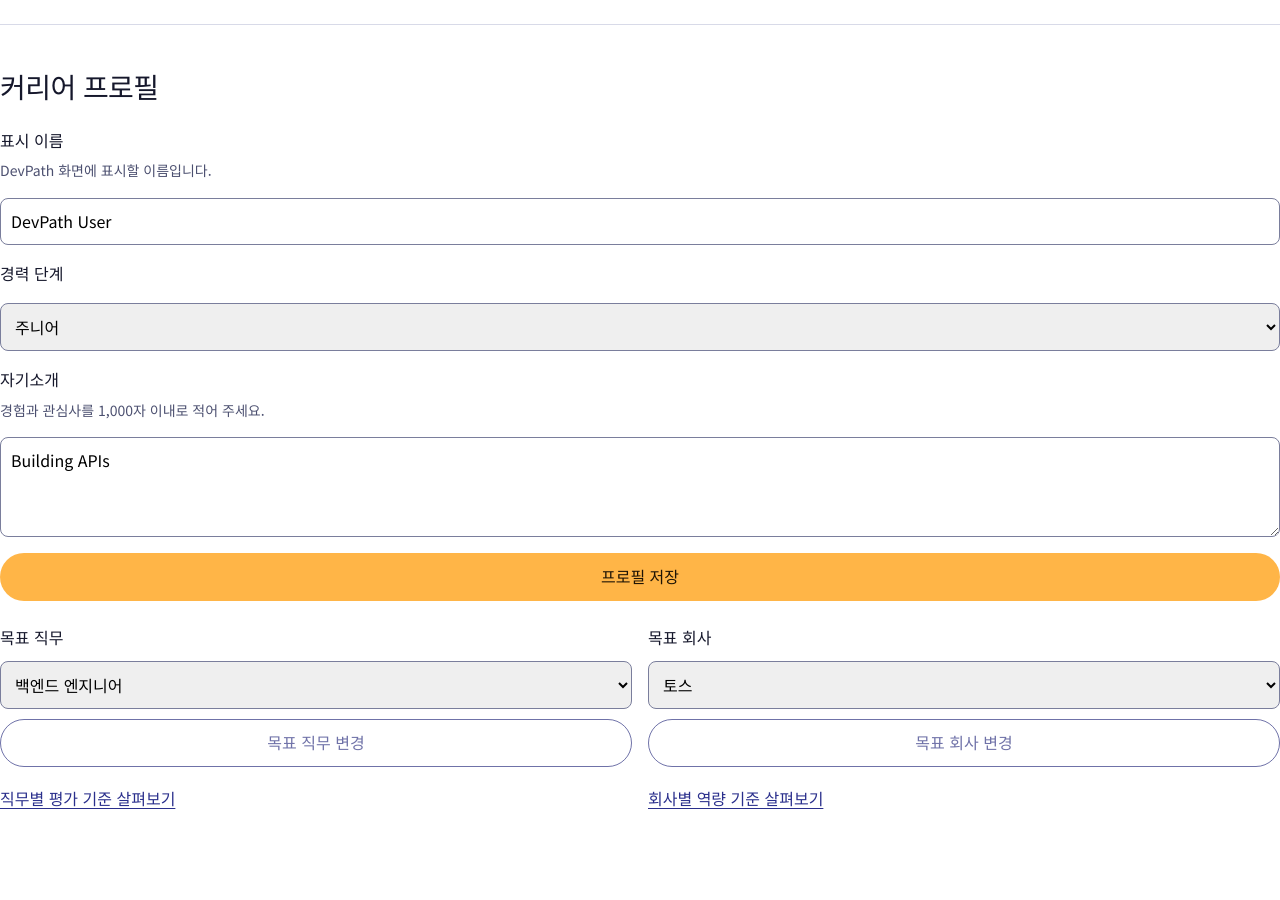
Test: announces a failed target change
Select "라인" in the dropdown labelled "목표 회사": (964,685) [648, 661, 1279, 709]
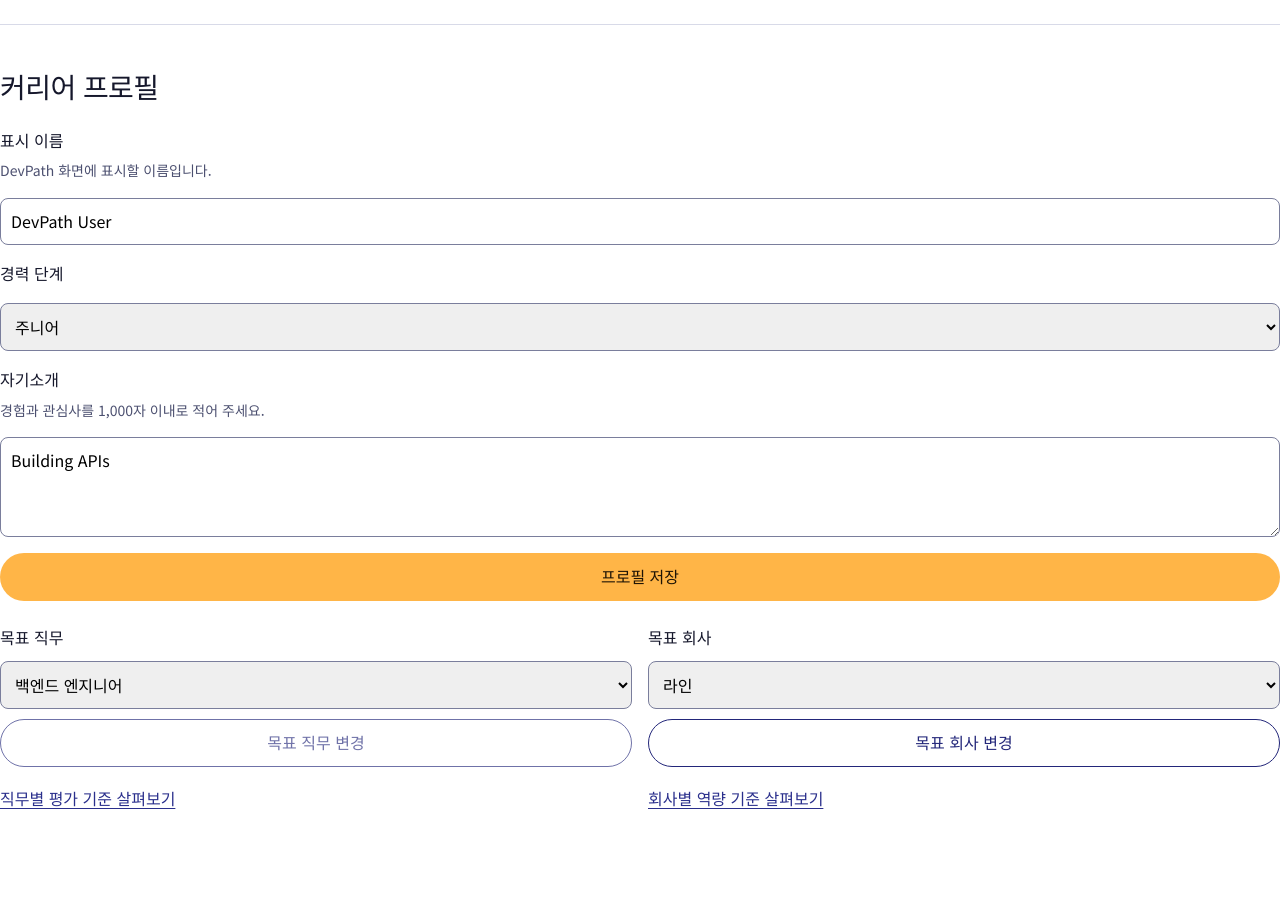
Click the button "목표 회사 변경": (964,743) [648, 719, 1279, 767]
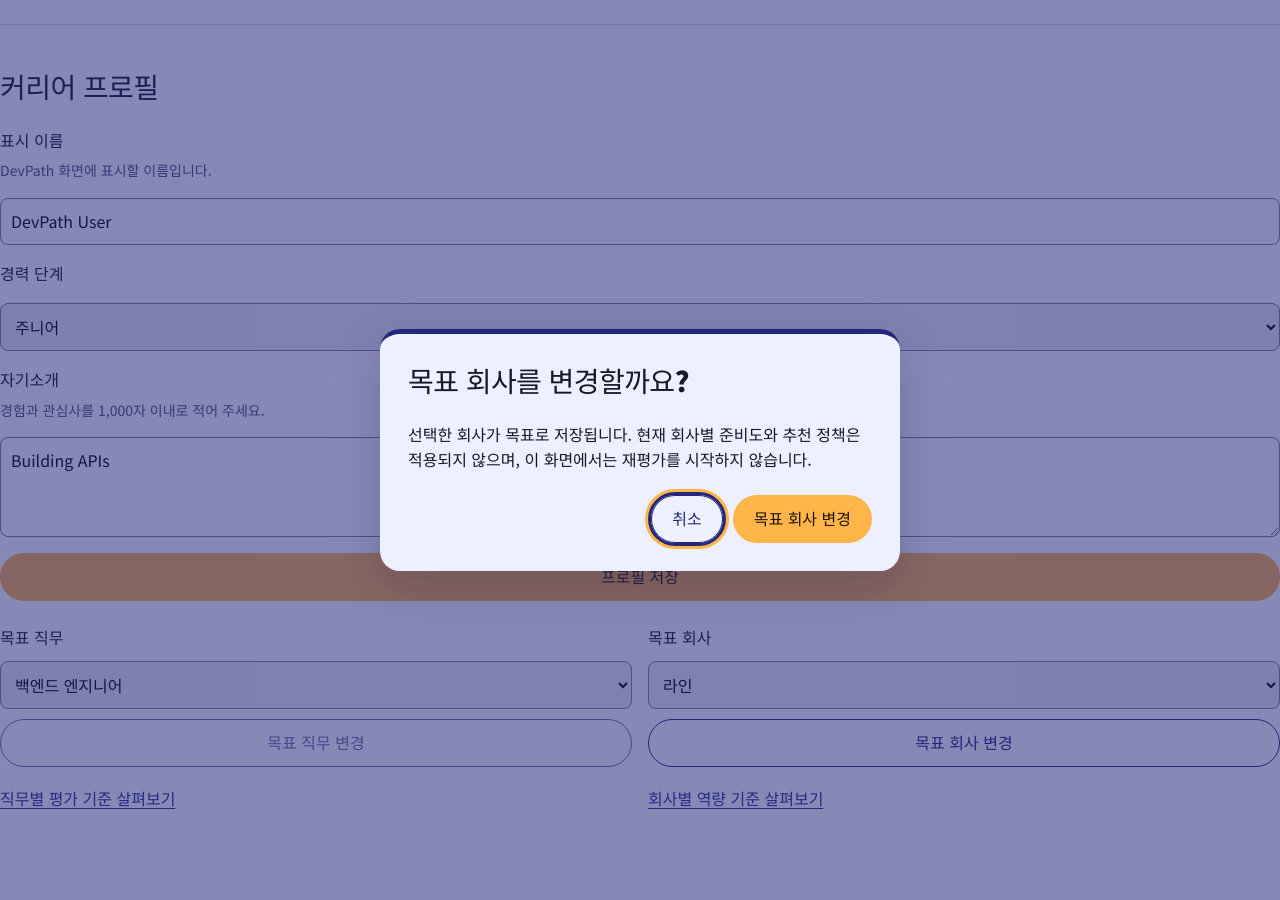
Click the button "목표 회사 변경": (802,519) [733, 495, 872, 543]
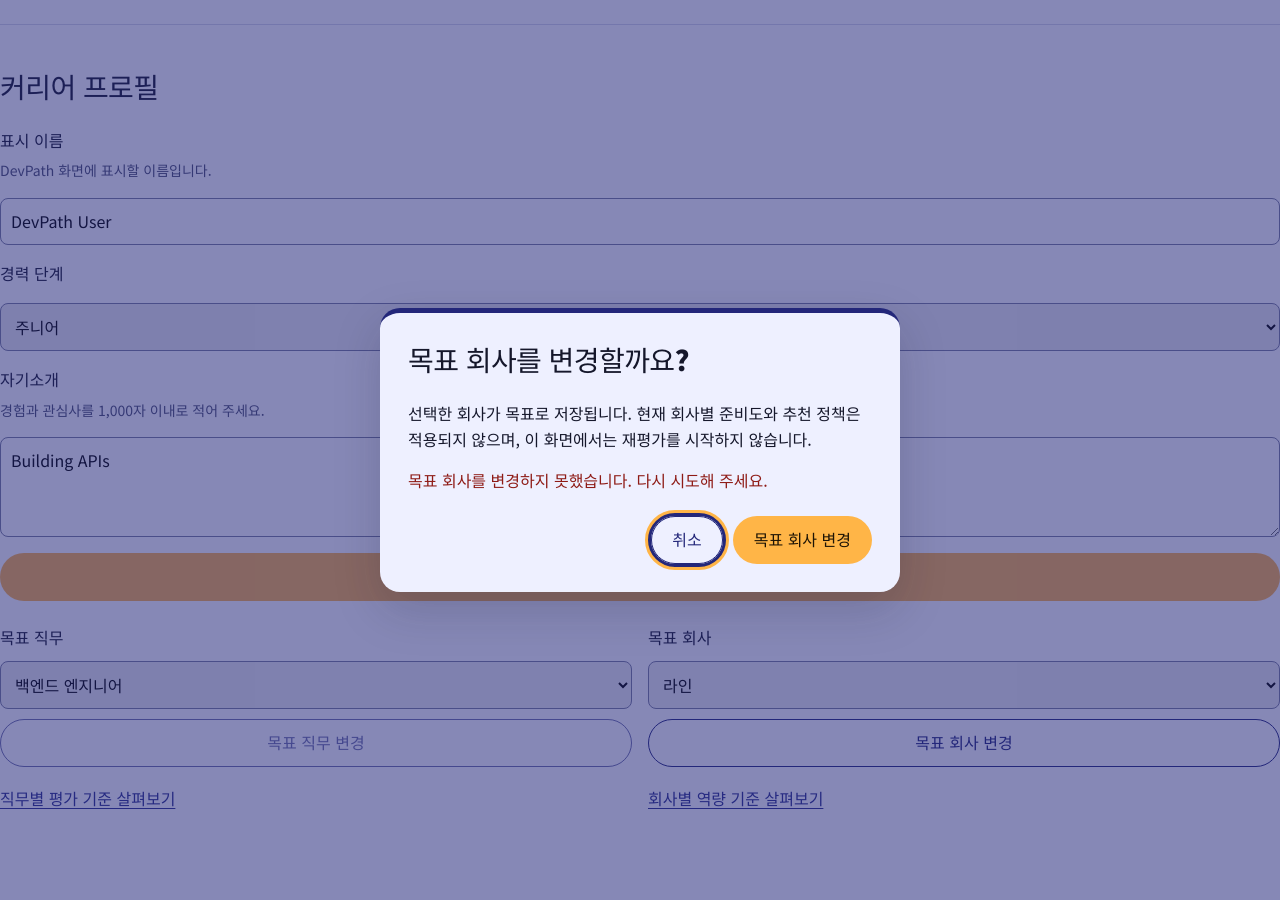
expect the message shows "목표 회사를 변경하지 못했습니다": met, box [408, 468, 768, 492]
